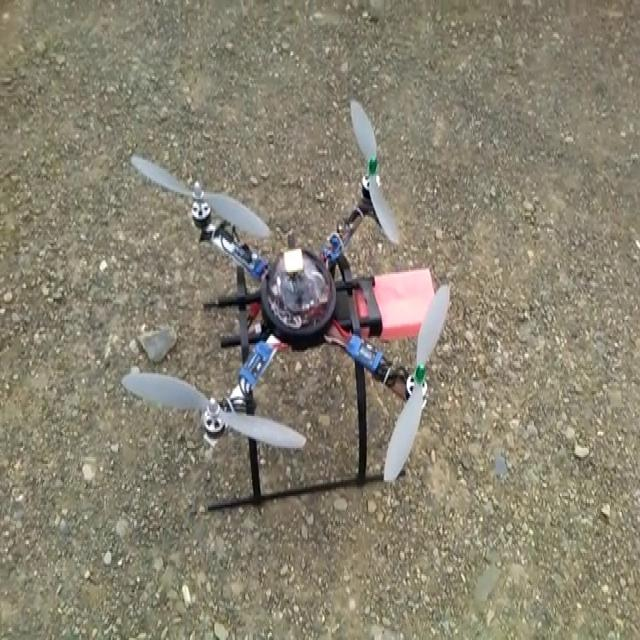drone: (121, 95, 454, 518)
